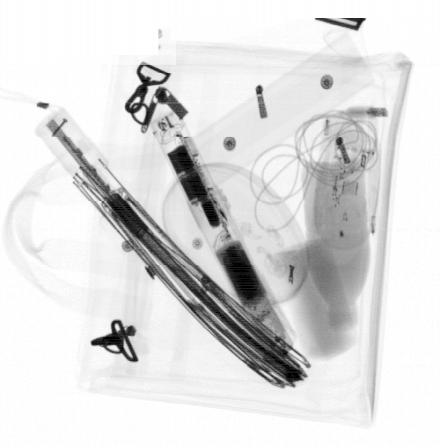Baton: (147, 105, 299, 368)
